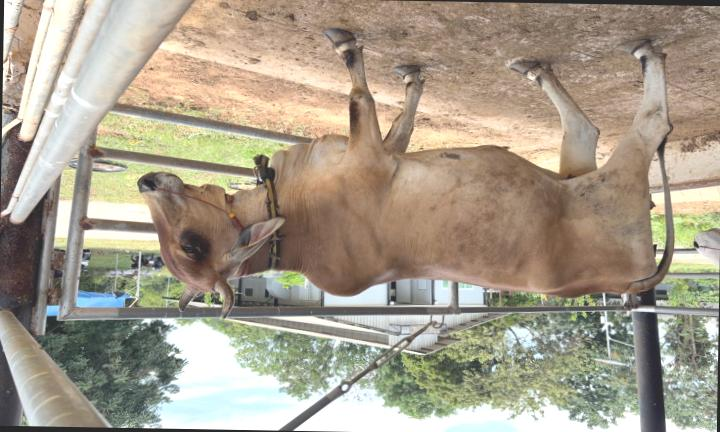Brahman: (138, 29, 673, 318)
